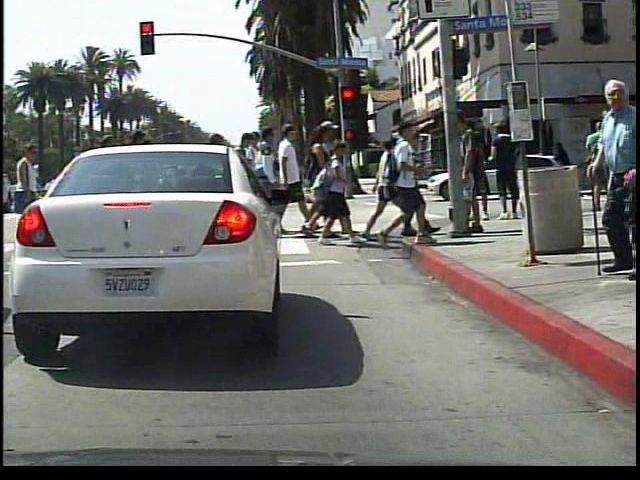person: (563, 74, 639, 287)
